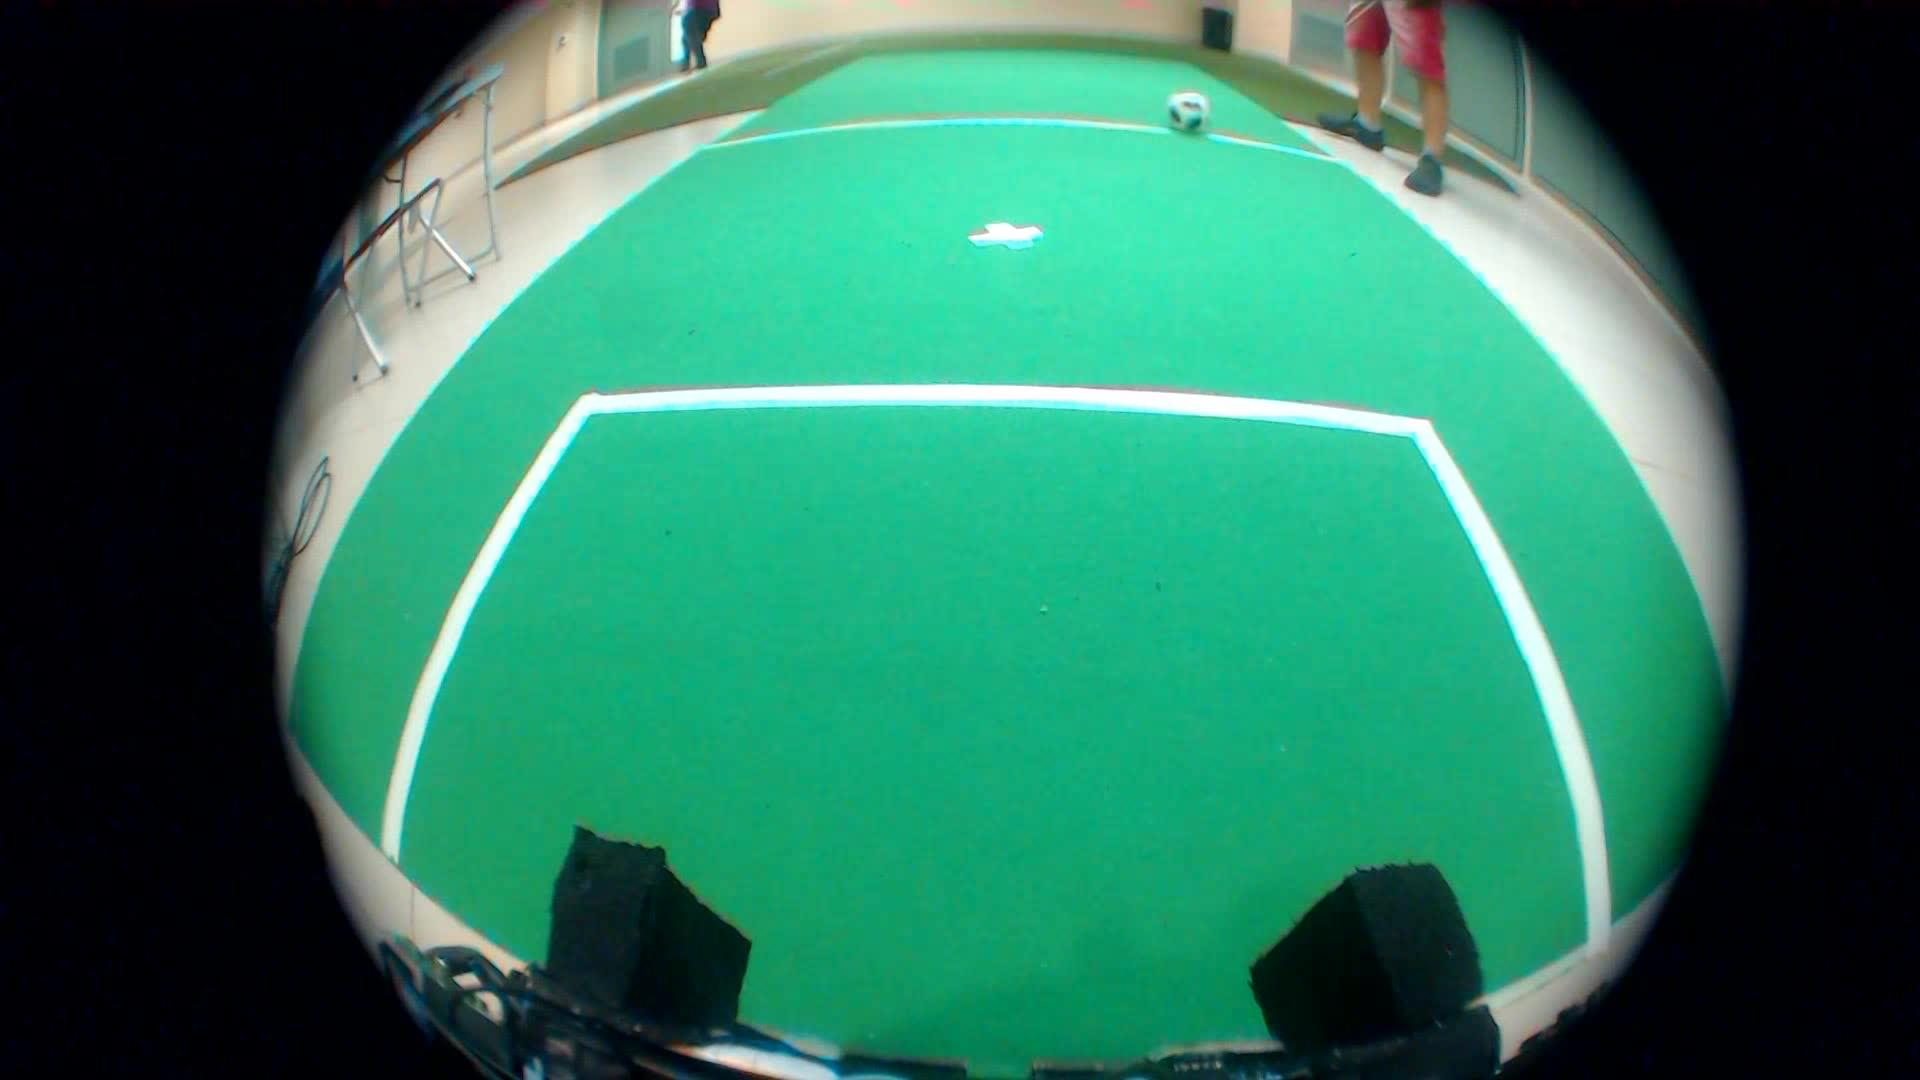ball: (1160, 73, 1226, 145)
